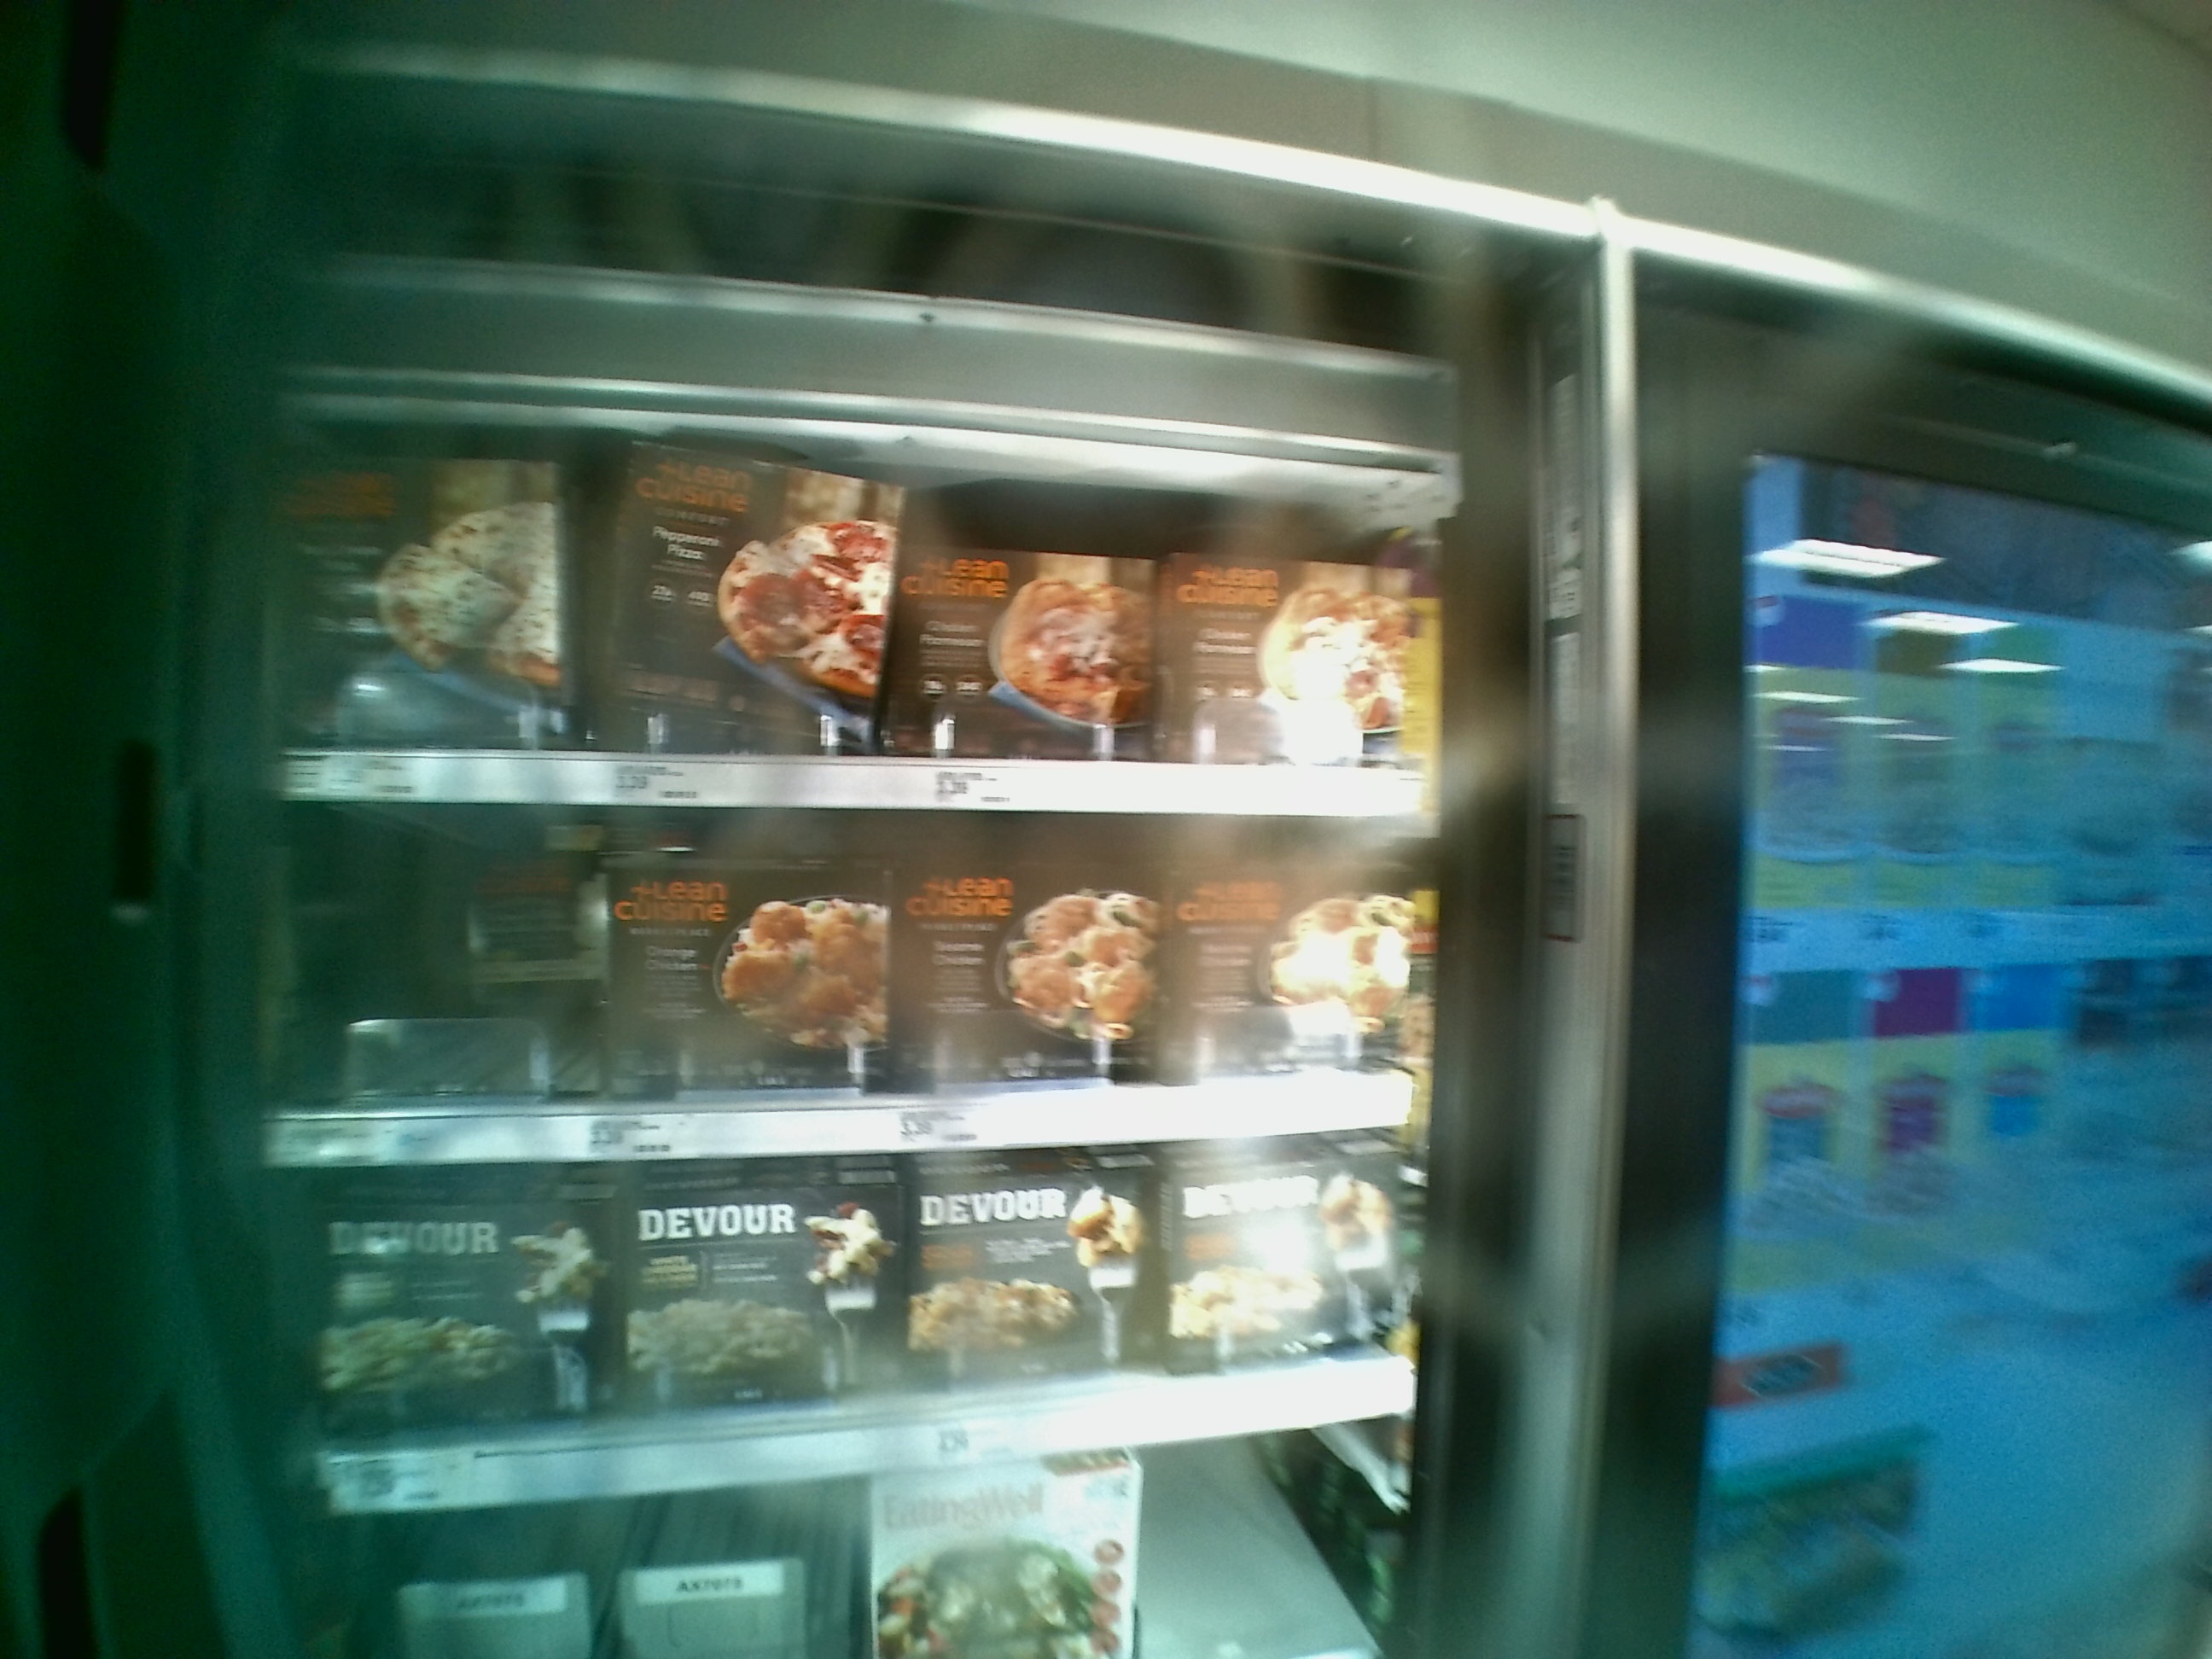Shelf: (263, 415, 1433, 814), (273, 796, 1413, 1161)
